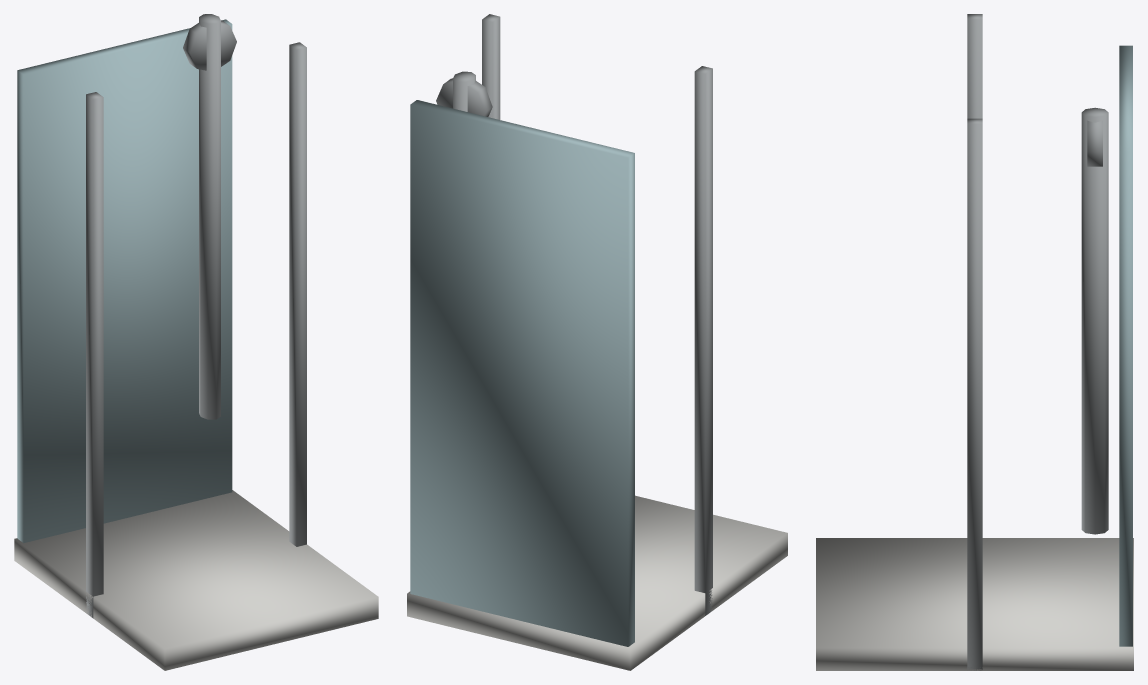
Rendered from shower_stall__deep.glb.
The picture shows the model from 3 angles, left to right: view 1: azimuth 30°, elevation 25°; view 2: azimuth 150°, elevation 25°; view 3: azimuth 270°, elevation 25°; orthographic projection. The views are drawn at different scales.
Visible parts, largest first — view 1: world; view 2: world; view 3: world.
Part boxes in pixels (<box>): world: <box>14,14,378,670</box>; world: <box>407,14,787,670</box>; world: <box>816,14,1133,670</box>.
Size of the model in its own units: 0.82 by 1.9 by 1.
